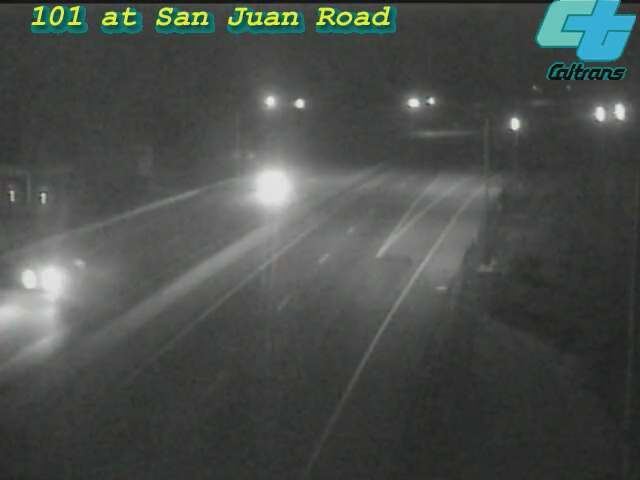vehicle: (7, 236, 87, 316), (231, 147, 311, 227), (488, 100, 538, 150), (573, 90, 623, 140), (593, 86, 640, 136)
